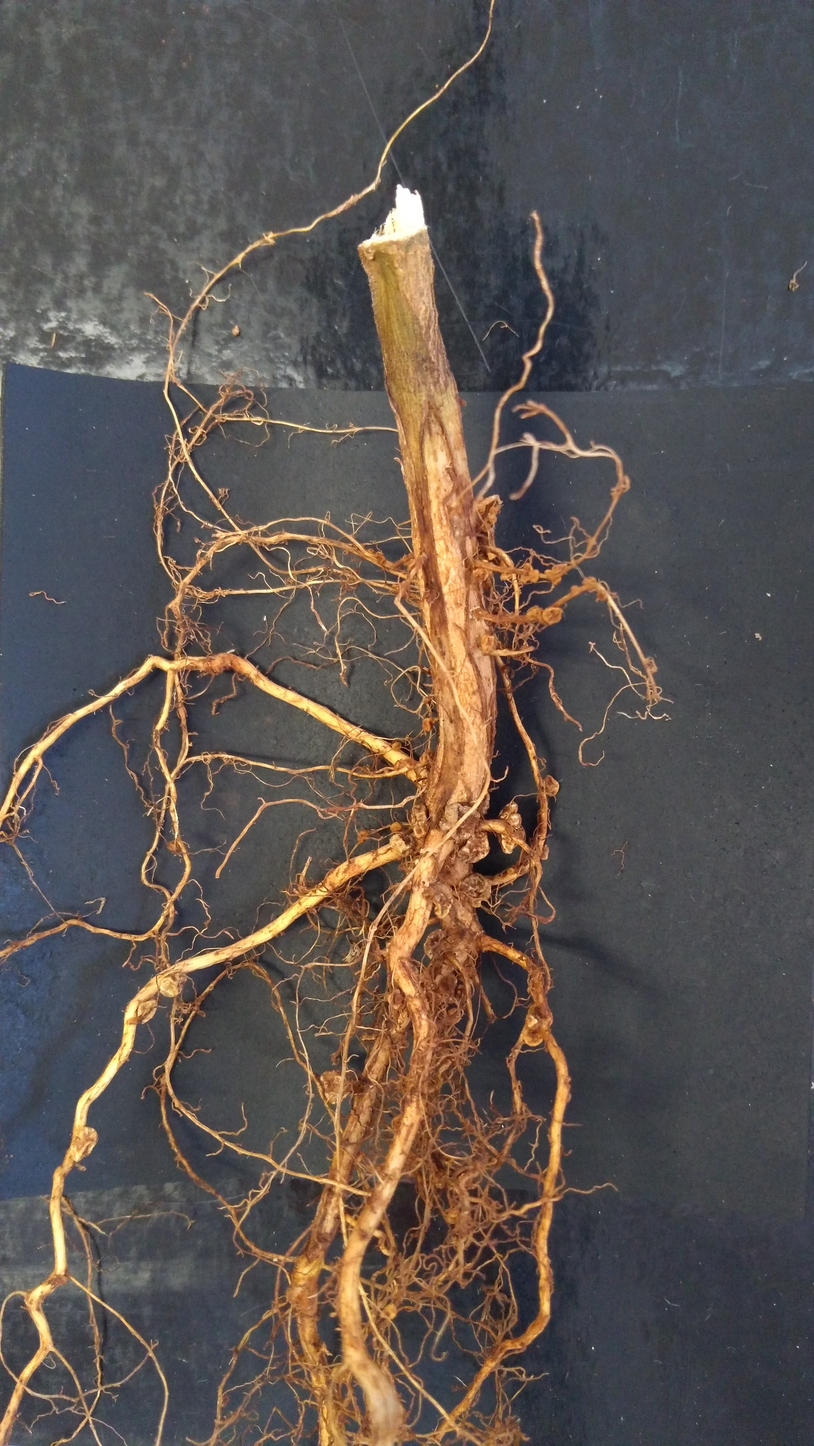nodule: (438, 801, 482, 844), (494, 800, 527, 857), (319, 1067, 351, 1107), (474, 493, 504, 535), (454, 830, 491, 864), (68, 1125, 100, 1163), (424, 882, 455, 918), (463, 871, 493, 907), (435, 966, 459, 1004), (420, 926, 446, 961), (437, 854, 468, 883), (157, 970, 189, 998), (409, 804, 432, 842), (388, 833, 417, 857), (137, 996, 158, 1026), (521, 1028, 548, 1050), (329, 1360, 353, 1384), (542, 774, 562, 801), (480, 633, 501, 657), (540, 605, 563, 626), (524, 603, 546, 624), (445, 1004, 462, 1028), (471, 564, 492, 583), (478, 792, 493, 816), (386, 987, 403, 1008), (417, 747, 436, 765), (518, 562, 533, 584), (544, 568, 562, 586), (581, 575, 598, 593), (521, 1012, 540, 1028), (508, 811, 523, 830), (420, 716, 436, 733), (381, 1301, 397, 1318), (399, 757, 417, 771), (527, 567, 540, 585), (355, 829, 370, 844), (167, 838, 183, 852), (483, 549, 500, 562), (499, 569, 514, 582), (551, 561, 567, 573), (374, 550, 387, 564), (390, 740, 403, 753), (390, 821, 403, 834), (392, 758, 403, 772), (569, 583, 579, 591), (367, 547, 376, 555)
